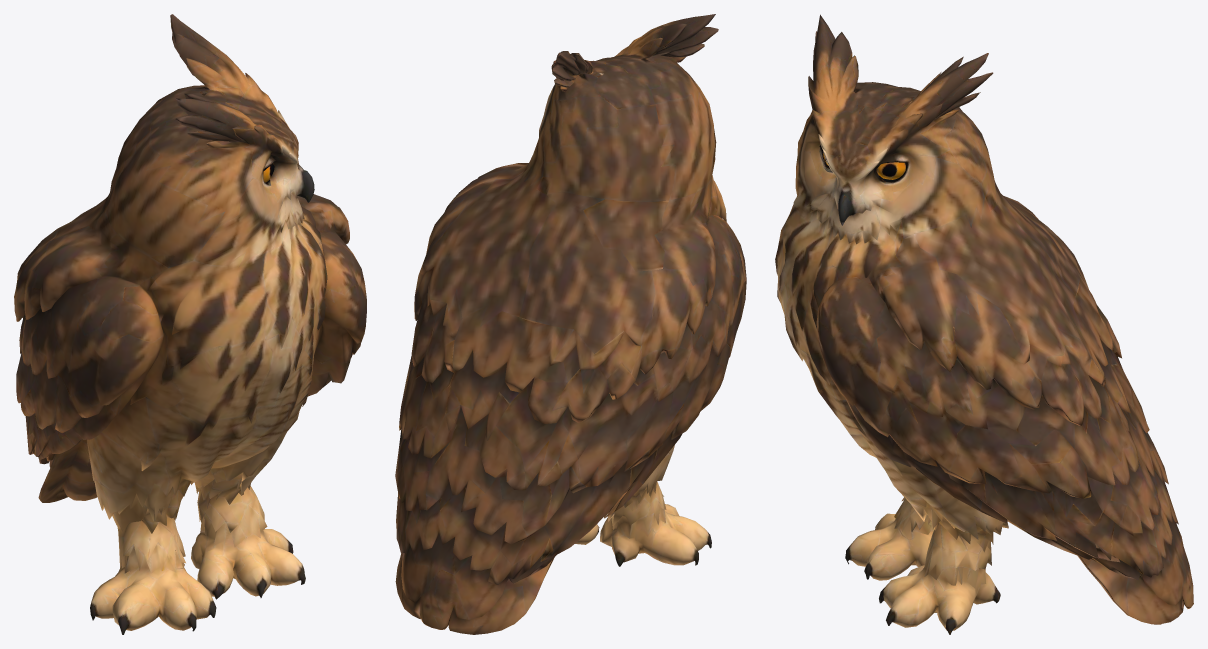
File: owl-bengalhybrid.glb
3 views of the same model, side by side, from view 1: azimuth 30°, elevation 25°; view 2: azimuth 150°, elevation 25°; view 3: azimuth 270°, elevation 25° (orthographic). The views are drawn at different scales.
Visible parts, largest first — view 1: geometry_0; view 2: geometry_0; view 3: geometry_0.
Boxes of the visible parts, x1,y1,x2,y2 form: geometry_0: [14, 14, 366, 634]; geometry_0: [395, 14, 746, 634]; geometry_0: [775, 14, 1193, 634].
Size of the model in its own units: 0.5346 by 0.9536 by 0.6704.
Materials: 1 (1 with a texture image).
